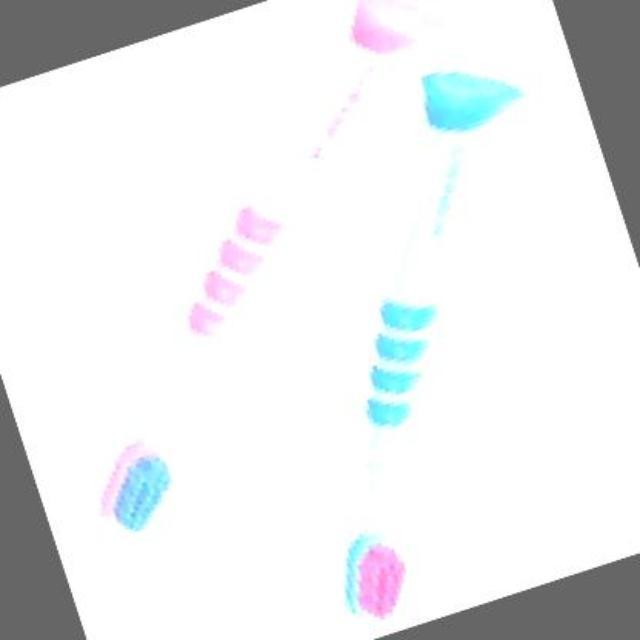toothbrush: (0, 1, 632, 564), (166, 64, 638, 638)
